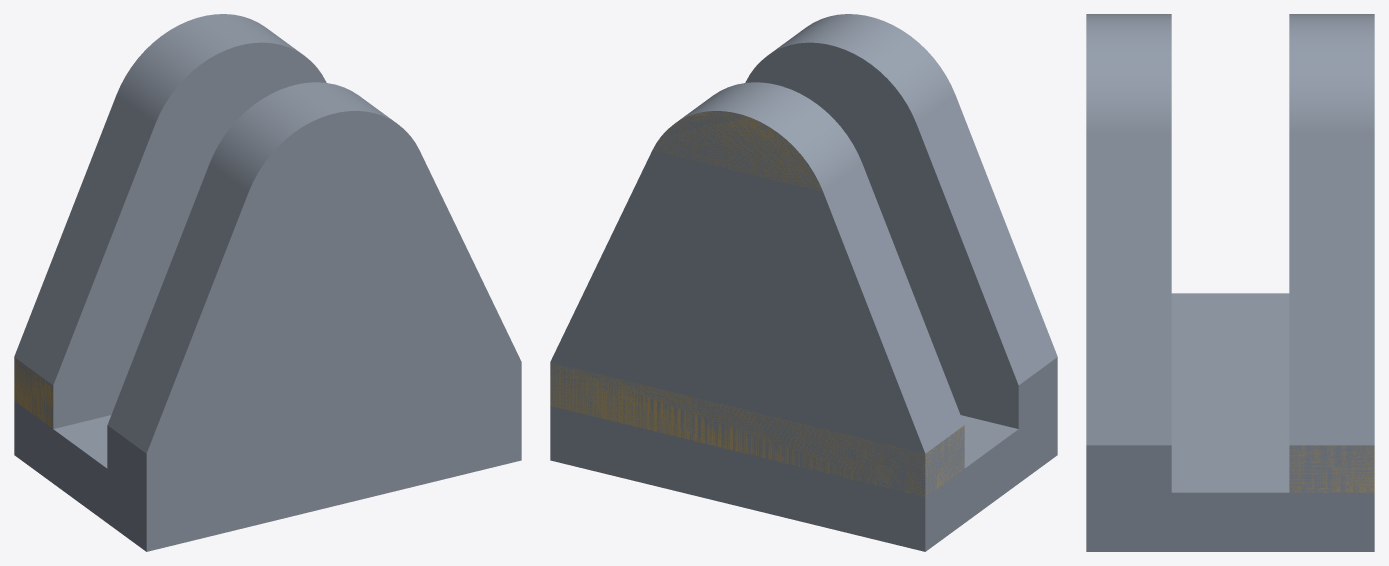
File: step_05.glb
3 renders of one model, left to right at view 1: azimuth 30°, elevation 25°; view 2: azimuth 150°, elevation 25°; view 3: azimuth 270°, elevation 25°, orthographic. The views are drawn at different scales.
Parts seen in each view (by area): view 1: part__fork bracket, added__fork bracket; view 2: part__fork bracket, added__fork bracket; view 3: part__fork bracket, added__fork bracket.
Part boxes in pixels (x1,y1,x2,y2): part__fork bracket: (14, 14, 521, 551); added__fork bracket: (14, 358, 53, 428); part__fork bracket: (550, 14, 1057, 551); added__fork bracket: (550, 111, 964, 496); part__fork bracket: (1086, 14, 1374, 551); added__fork bracket: (1289, 445, 1374, 492).
Bounding box in the file's own units: 72 × 71.98 × 44.
